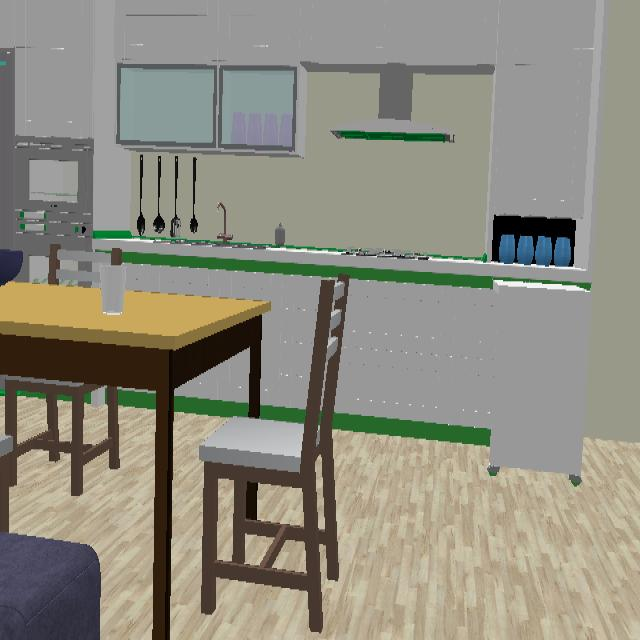cabinet: (0, 1, 604, 266), (130, 265, 319, 408), (337, 279, 495, 429), (178, 360, 246, 402)
chair: (199, 275, 349, 631), (5, 377, 120, 494), (48, 243, 122, 285)
countertop: (92, 232, 590, 289)
microwave: (15, 138, 92, 224)
sink: (168, 203, 270, 248)
stove: (341, 247, 430, 259)
table: (2, 282, 270, 638), (246, 485, 256, 518)
